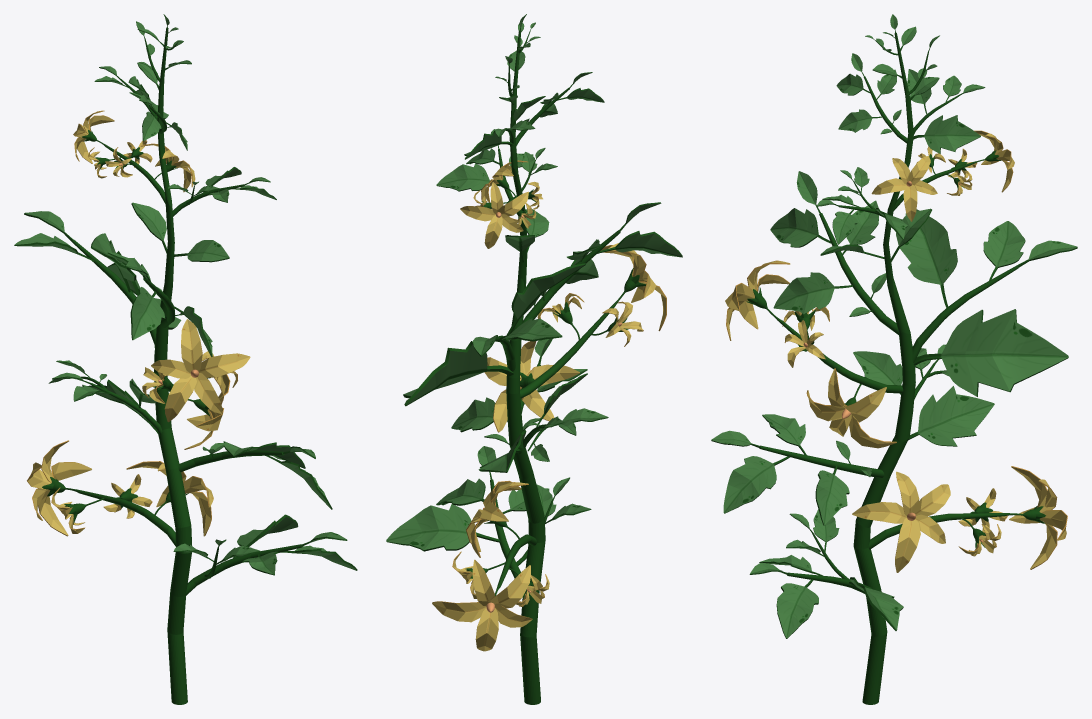
The model's file is tomatoGrowingStage3.fbx.
3 views of the same model, side by side, from view 1: azimuth 30°, elevation 25°; view 2: azimuth 150°, elevation 25°; view 3: azimuth 270°, elevation 25° (orthographic). The views are drawn at different scales.
Parts seen in each view (by area): view 1: stem, leaf.076, leaf.061, leaf.065, leaf.063, stem.004, stem.006, leaf.004, leaf.003, stem.007, leaf.018, leaf.008 (+4 smaller); view 2: stem, leaf.018, leaf.005, leaf.008, leaf.076, leaf.131, leaf.049, stem.009, leaf.007, leaf.035, leaf.017, leaf.033 (+9 smaller); view 3: stem, leaf.005, leaf.012, leaf.008, leaf.048, leaf.077, leaf.017, leaf.007, leaf.116, leaf.076, leaf.049, leaf.015 (+15 smaller).
Part boxes in pixels (x1,y1,x2,y2): stem: [154, 28, 191, 704]; leaf.076: [130, 287, 165, 340]; leaf.061: [181, 319, 202, 372]; leaf.065: [198, 353, 250, 377]; leaf.063: [164, 376, 196, 422]; stem.004: [78, 490, 175, 546]; stem.006: [185, 544, 302, 595]; leaf.004: [173, 240, 229, 262]; leaf.003: [131, 202, 167, 253]; stem.007: [178, 450, 284, 471]; leaf.018: [233, 514, 298, 558]; leaf.008: [91, 233, 136, 292]; stem: [506, 30, 545, 704]; leaf.018: [386, 504, 500, 551]; leaf.005: [403, 341, 513, 406]; leaf.008: [507, 263, 585, 335]; leaf.076: [597, 231, 682, 257]; leaf.131: [436, 163, 497, 191]; leaf.049: [451, 397, 507, 432]; stem.009: [520, 306, 613, 398]; leaf.007: [499, 318, 562, 341]; leaf.035: [432, 601, 486, 622]; leaf.017: [436, 478, 485, 505]; leaf.033: [490, 565, 530, 608]; stem: [853, 32, 915, 704]; leaf.005: [913, 309, 1068, 396]; leaf.012: [908, 386, 994, 446]; leaf.008: [900, 209, 957, 308]; leaf.048: [723, 456, 789, 513]; leaf.077: [773, 272, 852, 314]; leaf.017: [776, 579, 818, 638]; leaf.007: [983, 221, 1025, 280]; leaf.116: [913, 115, 980, 153]; leaf.076: [770, 208, 831, 247]; leaf.049: [815, 465, 849, 525]; leaf.015: [853, 351, 902, 394].
Size of the model in its own units: 36.43 by 102 by 49.32.
